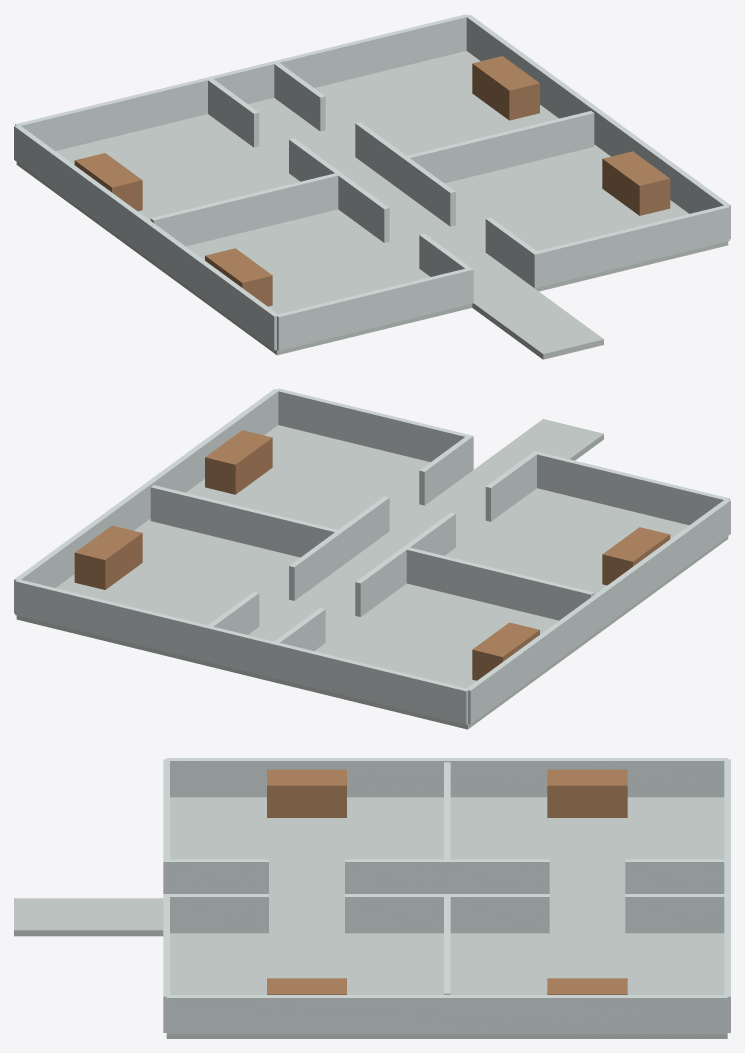
File: library-cutaway.glb
3 renders of one model, top to bottom at view 1: azimuth 30°, elevation 25°; view 2: azimuth 150°, elevation 25°; view 3: azimuth 270°, elevation 25°, orthographic. The views are drawn at different scales.
Parts seen in each view (by area): view 1: library/floor/cutaway.002, library/rear-wall/cutaway.002, library/outer--1/cutaway.002, library/entry-jamb-1/cutaway.002, library/entry-jamb--1/cutaway.002, library/outer-1/cutaway.002, library/room-divider--1/cutaway.002, library/room-divider-1/cutaway.002, library/portal-floor-0/cutaway.002, library/desk-1/cutaway.002, library/desk-3/cutaway.002, library/corridor-1-1-a/cutaway.002 (+9 smaller); view 2: library/floor/cutaway.002, library/rear-wall/cutaway.002, library/outer--1/cutaway.002, library/outer-1/cutaway.002, library/entry-jamb-1/cutaway.002, library/entry-jamb--1/cutaway.002, library/room-divider--1/cutaway.002, library/room-divider-1/cutaway.002, library/portal-floor-0/cutaway.002, library/desk-3/cutaway.002, library/desk-1/cutaway.002, library/corridor-1--1-b/cutaway.002 (+9 smaller); view 3: library/floor/cutaway.002, library/outer-1/cutaway.002, library/outer--1/cutaway.002, library/portal-floor-0/cutaway.002, library/corridor-1--1-b/cutaway.002, library/corridor-1--1-a/cutaway.002, library/corridor-1-1-a/cutaway.002, library/corridor-1-1-b/cutaway.002, library/desk-2/cutaway.002, library/desk-0/cutaway.002, library/corridor--1-1-a/cutaway.002, library/corridor--1--1-b/cutaway.002 (+9 smaller).
Part boxes in pixels (x1,y1,x2,y2): library/floor/cutaway.002: (16, 51, 728, 355); library/rear-wall/cutaway.002: (15, 14, 468, 150); library/outer--1/cutaway.002: (14, 125, 279, 350); library/entry-jamb-1/cutaway.002: (531, 205, 729, 288); library/entry-jamb--1/cutaway.002: (276, 268, 473, 350); library/outer-1/cutaway.002: (466, 14, 730, 239); library/room-divider--1/cutaway.002: (150, 173, 338, 246); library/room-divider-1/cutaway.002: (407, 111, 594, 183); library/portal-floor-0/cutaway.002: (472, 287, 603, 359); library/desk-1/cutaway.002: (602, 151, 670, 215); library/desk-3/cutaway.002: (472, 56, 539, 120); library/corridor-1-1-a/cutaway.002: (403, 157, 455, 226); library/floor/cutaway.002: (16, 425, 728, 729); library/rear-wall/cutaway.002: (15, 579, 468, 724); library/outer--1/cutaway.002: (465, 499, 730, 724); library/outer-1/cutaway.002: (14, 389, 278, 613); library/entry-jamb-1/cutaway.002: (276, 388, 473, 471); library/entry-jamb--1/cutaway.002: (532, 451, 729, 525); library/room-divider--1/cutaway.002: (406, 547, 594, 620); library/room-divider-1/cutaway.002: (150, 485, 337, 557); library/portal-floor-0/cutaway.002: (472, 419, 603, 477); library/desk-3/cutaway.002: (74, 525, 142, 589); library/desk-1/cutaway.002: (205, 430, 272, 494); library/corridor-1--1-b/cutaway.002: (289, 531, 341, 600); library/floor/cutaway.002: (166, 797, 727, 1038); library/outer-1/cutaway.002: (166, 995, 727, 1034); library/outer--1/cutaway.002: (166, 758, 727, 797); library/portal-floor-0/cutaway.002: (14, 898, 163, 936); library/corridor-1--1-b/cutaway.002: (447, 894, 549, 933); library/corridor-1--1-a/cutaway.002: (625, 894, 726, 933); library/corridor-1-1-a/cutaway.002: (345, 894, 447, 933); library/corridor-1-1-b/cutaway.002: (166, 894, 268, 933); library/desk-2/cutaway.002: (547, 769, 627, 817); library/desk-0/cutaway.002: (267, 769, 346, 817); library/corridor--1-1-a/cutaway.002: (345, 859, 447, 893); library/corridor--1--1-b/cutaway.002: (447, 859, 549, 893).
Size of the model in its own units: 12.74 by 1.05 by 16.1.
